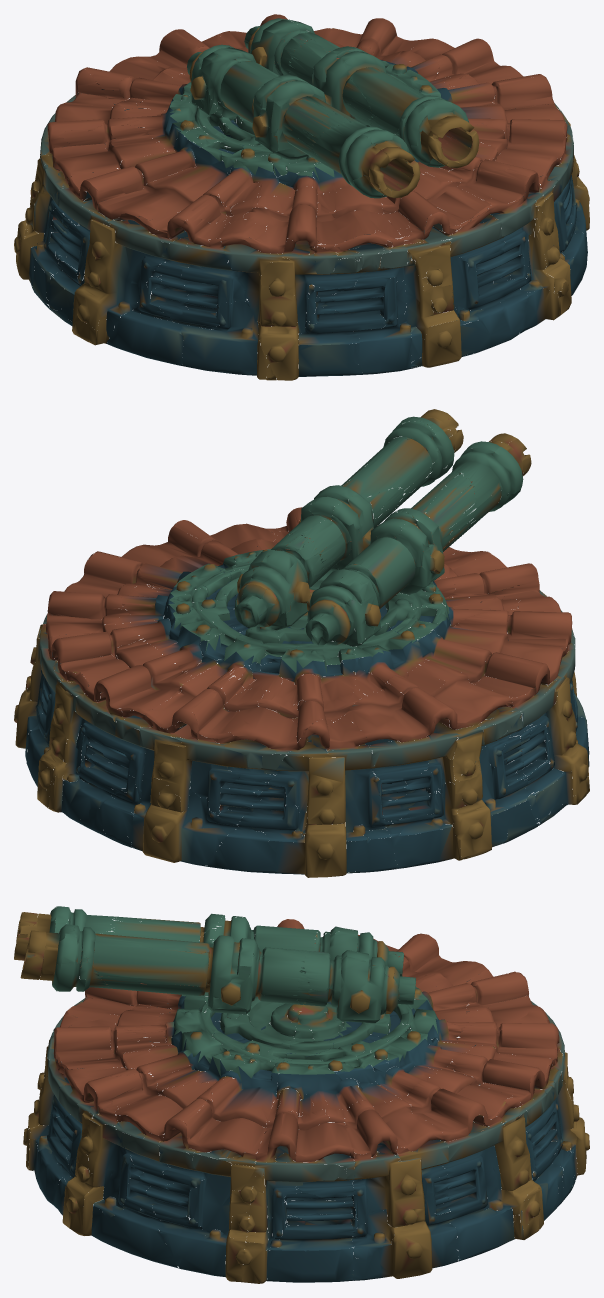
The model's file is warrior-1-pastel.glb.
3 renders of one model, top to bottom at view 1: azimuth 30°, elevation 25°; view 2: azimuth 150°, elevation 25°; view 3: azimuth 270°, elevation 25°, orthographic. The views are drawn at different scales.
Visible parts, largest first — view 1: fixed-copper-platform, twin-cannons, rotating-bearing; view 2: fixed-copper-platform, twin-cannons, rotating-bearing; view 3: fixed-copper-platform, twin-cannons, rotating-bearing.
Part boxes in pixels (x1=…): fixed-copper-platform: x1=14, y1=14, x2=589, y2=380; twin-cannons: x1=187, y1=18, x2=479, y2=198; rotating-bearing: x1=169, y1=57, x2=441, y2=180; fixed-copper-platform: x1=14, y1=507, x2=589, y2=877; twin-cannons: x1=235, y1=409, x2=531, y2=644; rotating-bearing: x1=168, y1=548, x2=449, y2=672; fixed-copper-platform: x1=23, y1=919, x2=589, y2=1283; twin-cannons: x1=14, y1=906, x2=415, y2=1019; rotating-bearing: x1=166, y1=975, x2=438, y2=1080.
Size of the model in its own units: 0.8197 by 0.387 by 0.8288.
